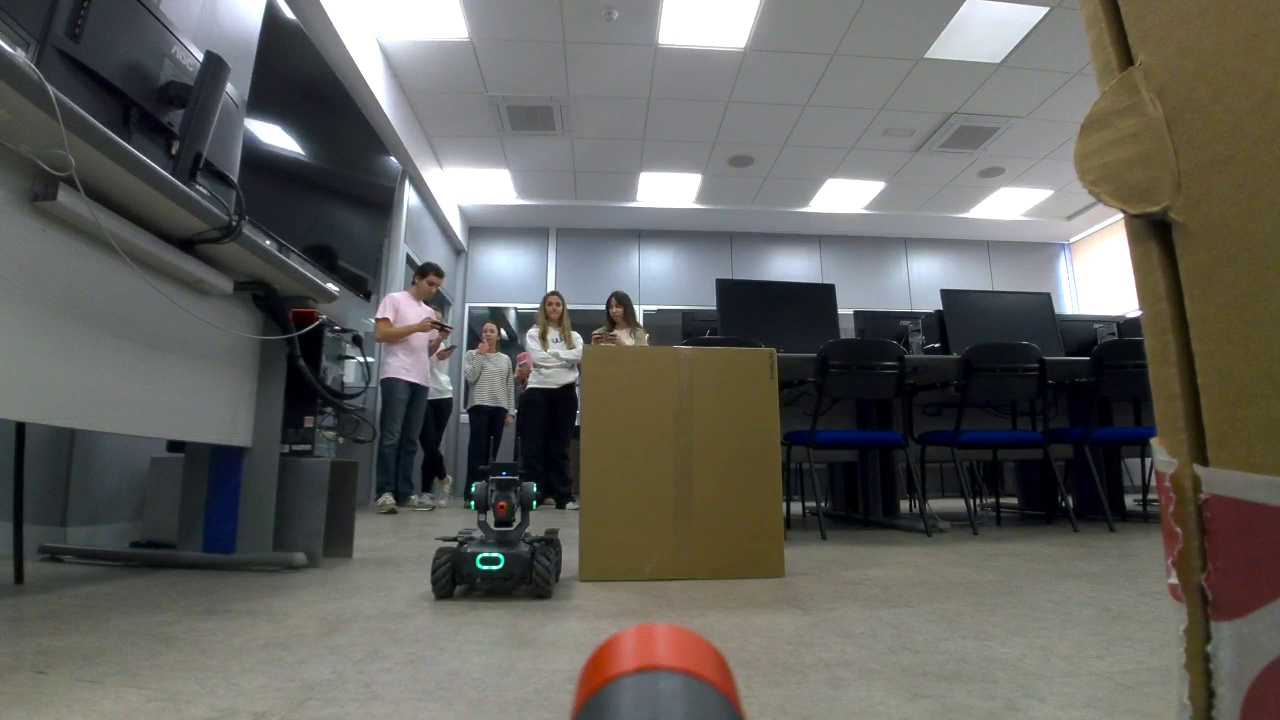robot: (429, 461, 562, 600)
